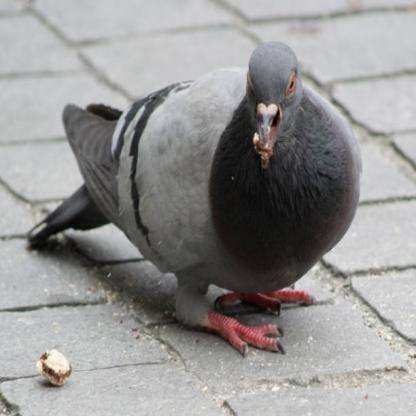Flying Rat: (22, 39, 384, 368)
